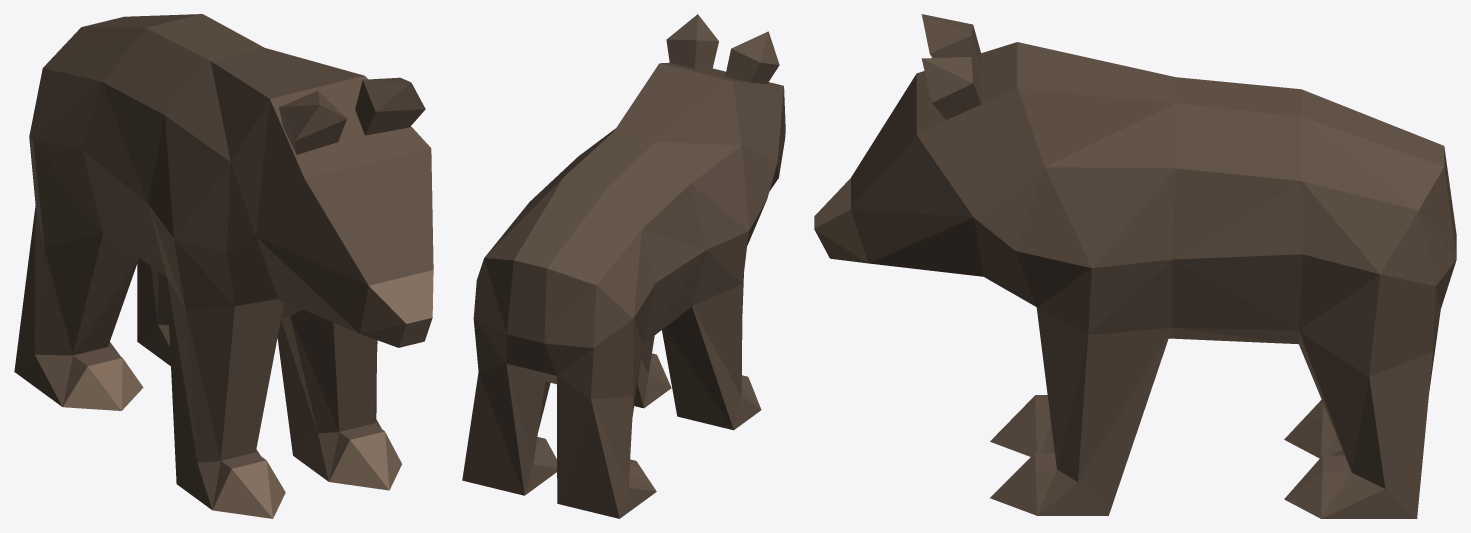
File: Bear1.fbx
3 renders of one model, left to right at view 1: azimuth 30°, elevation 25°; view 2: azimuth 150°, elevation 25°; view 3: azimuth 270°, elevation 25°, orthographic. The views are drawn at different scales.
Visible parts, largest first — view 1: Bear1; view 2: Bear1; view 3: Bear1.
Boxes of the visible parts, left/top/right/bottom form: Bear1: left=14, top=14, right=433, bottom=518; Bear1: left=462, top=14, right=785, bottom=518; Bear1: left=814, top=14, right=1456, bottom=518.
Size of the model in its own units: 34.09 by 67.05 by 90.03.
